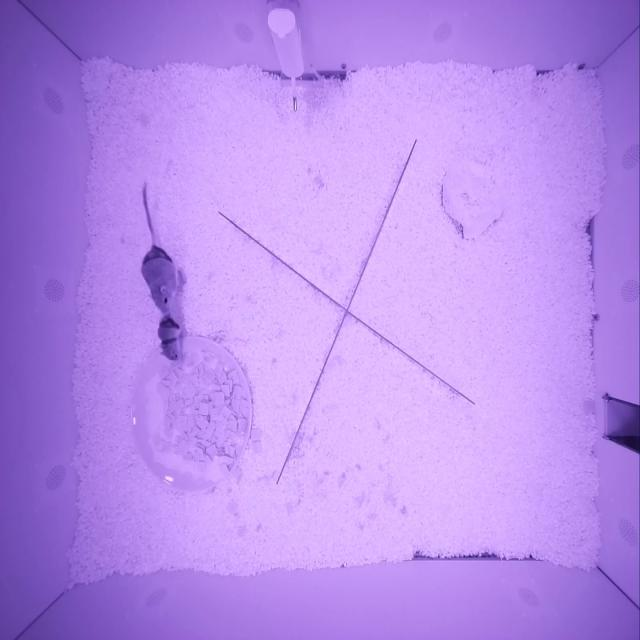adult_back: (140, 246, 187, 315)
pup_h_stripe: (158, 313, 184, 362)
